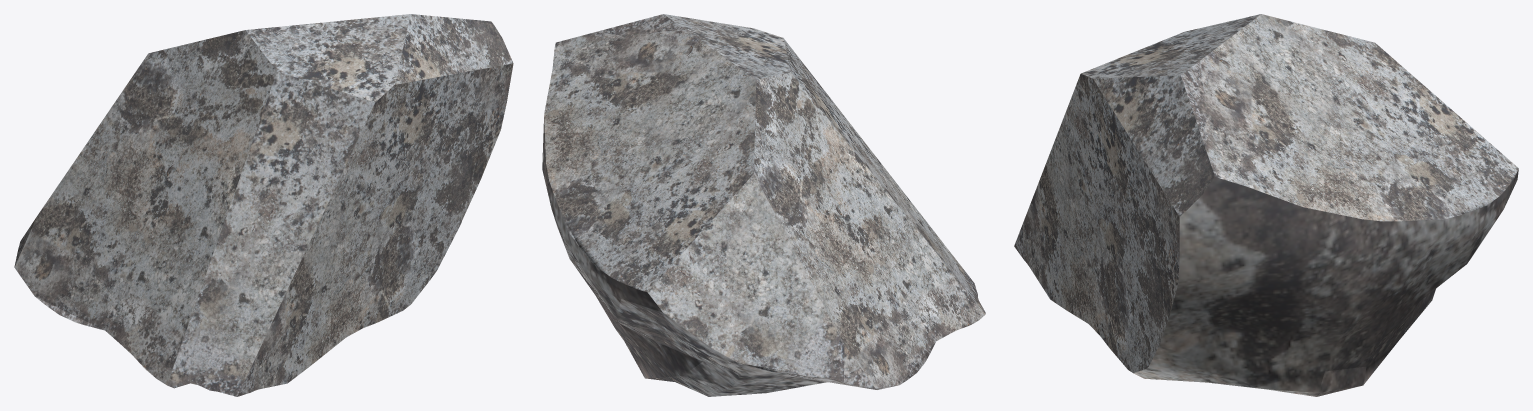
Rendered from Asteroid_Large_001_02_008.fbx.
The picture shows the model from 3 angles, left to right: view 1: azimuth 30°, elevation 25°; view 2: azimuth 150°, elevation 25°; view 3: azimuth 270°, elevation 25°; orthographic projection. The views are drawn at different scales.
Visible parts, largest first — view 1: Asteroid_Large_001_02_008; view 2: Asteroid_Large_001_02_008; view 3: Asteroid_Large_001_02_008.
Part boxes in pixels (x1,y1,x2,y2): Asteroid_Large_001_02_008: [14, 14, 513, 396]; Asteroid_Large_001_02_008: [542, 14, 985, 396]; Asteroid_Large_001_02_008: [1014, 14, 1518, 396].
Bounding box in the file's own units: 27.16 × 19.26 × 25.21.
